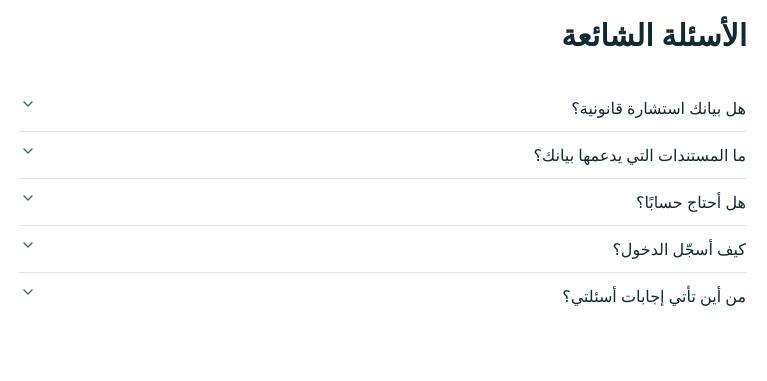
Scenario: opens one answer at a time
Click the button "هل بيانك استشارة قانونية؟" at (659, 108), box [19, 85, 747, 131]
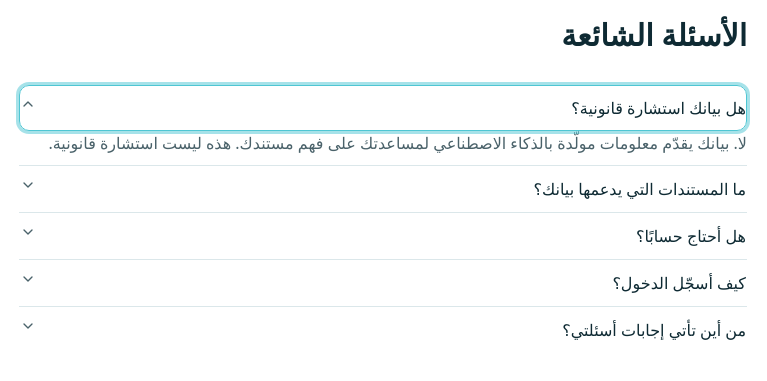
Result: the text "لا. بيانك يقدّم معلومات مولّدة بالذكاء الاصطناعي لمساعدتك على فهم مستندك. هذه ليست استشارة قانونية." is shown at [48, 132, 747, 154]
Click the button "هل أحتاج حسابًا؟" at (691, 236), box [19, 213, 747, 259]
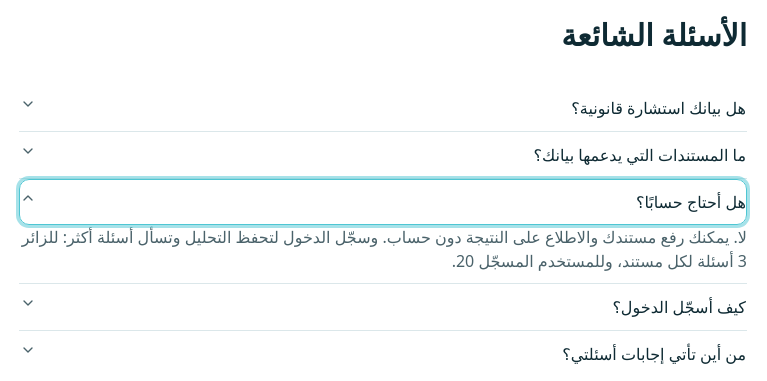
Result: the text "لا. يمكنك رفع مستندك والاطلاع على النتيجة دون حساب. وسجّل الدخول لتحفظ التحليل وتسأل أسئلة أكثر: للزائر 3 أسئلة لكل مستن" is shown at [22, 226, 747, 272]
Result: the text "لا. بيانك يقدّم معلومات مولّدة بالذكاء الاصطناعي لمساعدتك على فهم مستندك. هذه ليست استشارة قانونية." is gone
